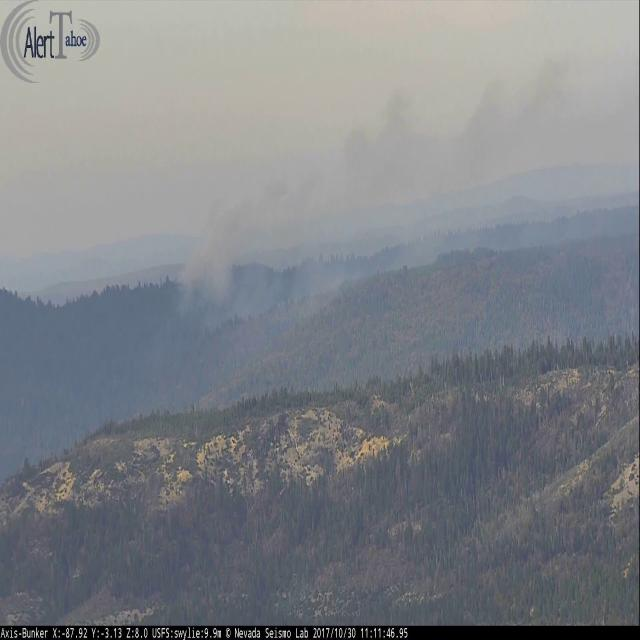smoke: (173, 55, 636, 325)
